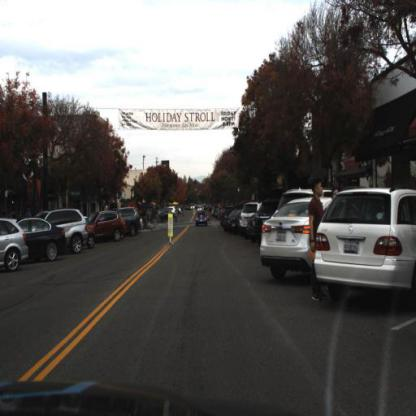car: (313, 186, 415, 307), (259, 195, 339, 283), (47, 208, 94, 253), (1, 216, 30, 274), (24, 218, 63, 261), (91, 215, 125, 246), (120, 207, 140, 235), (197, 210, 209, 227)
pedestrian: (310, 178, 323, 308)
